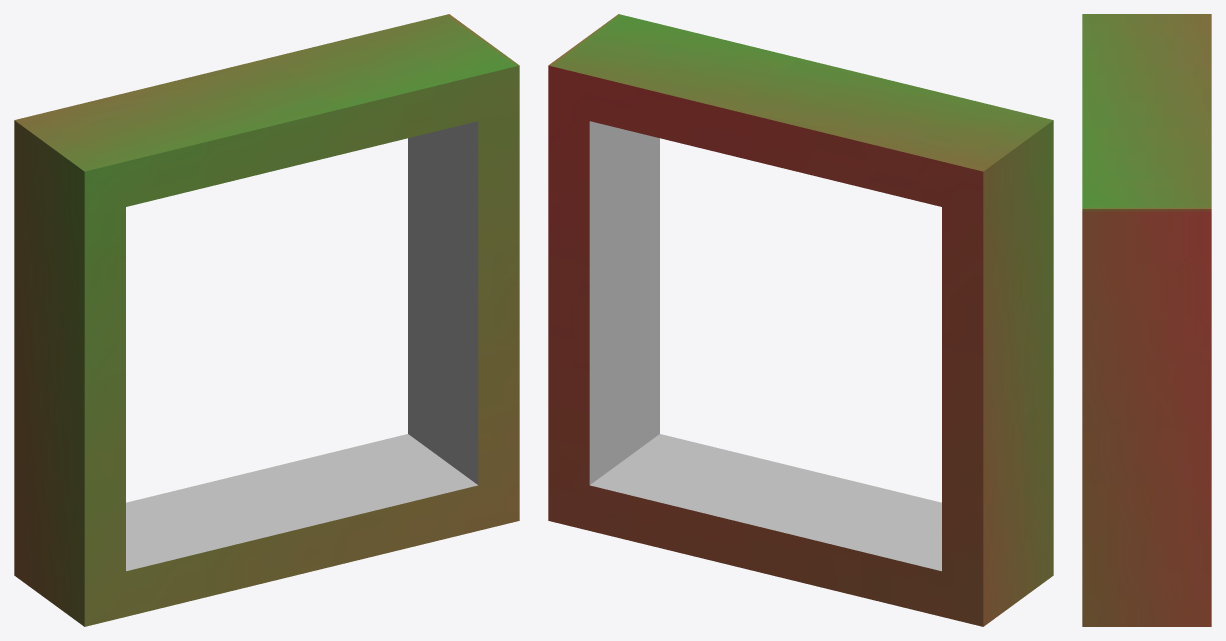
File: reticle_small.obj
3 renders of one model, left to right at view 1: azimuth 30°, elevation 25°; view 2: azimuth 150°, elevation 25°; view 3: azimuth 270°, elevation 25°, orthographic. The views are drawn at different scales.
Visible parts, largest first — view 1: Cube.002; view 2: Cube.002; view 3: Cube.002.
Part boxes in pixels (x1,y1,x2,y2): Cube.002: (14, 14, 519, 626); Cube.002: (548, 14, 1053, 626); Cube.002: (1082, 14, 1211, 626).
Size of the model in its own units: 0.5 by 0.5 by 0.14.
Materials: 2 (1 with a texture image).
